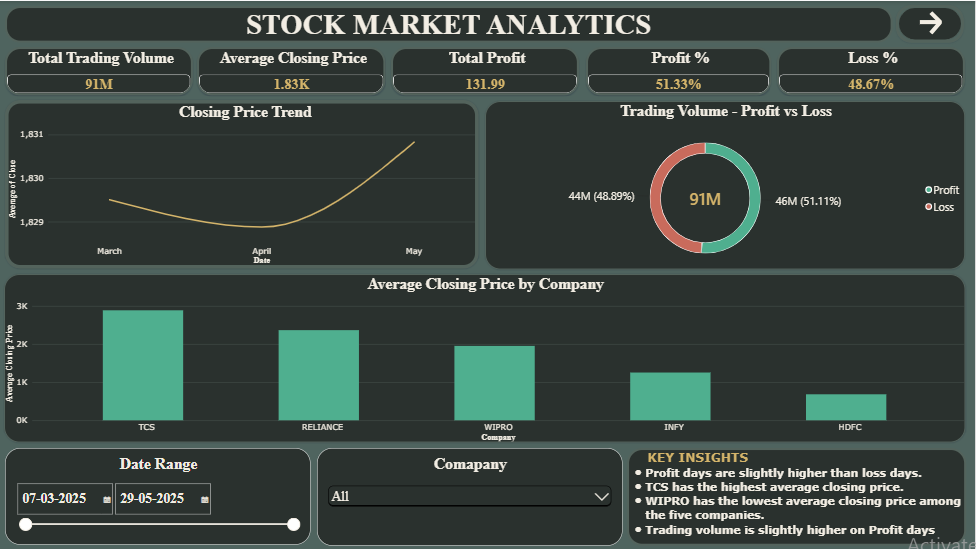

This screenshot's page, from the dashboard's own definition file:
{"tool":"powerbi","page":{"name":"Executive Dashboard","canvas":[1920,1080],"ordinal":0},"visuals":[{"type":"textbox","box":[15.6,9,1742.9,72.2],"z":0},{"type":"lineChart","title":"Closing Price Trend","fields":{"Y":["Avg(stock_market_dataset.Close)"],"Category":["Date_table.Month"]},"box":[15.4,195.2,929.8,330.8],"z":1000},{"type":"donutChart","title":"Trading Volume - Profit vs Loss","fields":{"Y":["Company.Total Volume"],"Category":["stock_market_dataset.Profit_Loss"]},"box":[958.2,195.5,942.7,330.9],"z":2000},{"type":"clusteredColumnChart","title":"Average Closing Price by Company","fields":{"Category":["Company.Company"],"Y":["Company.Average Closing Price"]},"box":[14.4,535.6,1887.5,331.2],"z":3000},{"type":"slicer","title":"Date Range","fields":{"Values":["Date_table.Date"]},"box":[15.5,877.3,600,190],"z":4000},{"type":"slicer","title":"Comapany","fields":{"Values":["Company.Company"]},"box":[628.2,877.3,600,191.8],"z":5000},{"type":"cardVisual","title":"Total Trading Volume","fields":{"Data":["Company.Total Volume"]},"box":[15.7,90,368.6,95],"z":6000},{"type":"cardVisual","title":"Average Closing Price","fields":{"Data":["Company.Average Closing Price"]},"box":[392.9,90,370,95],"z":7000},{"type":"cardVisual","title":"Profit %","fields":{"Data":["Company.Profit %"]},"box":[1155.7,90,363.6,95],"z":8000},{"type":"cardVisual","title":"Total Profit","fields":{"Data":["Company.Total Profit"]},"box":[773.6,90,369.3,95],"z":9000},{"type":"cardVisual","title":"Loss %","fields":{"Data":["Company.Loss %"]},"box":[1531.4,90,368.6,95],"z":10000},{"type":"textbox","box":[1236.4,877.3,666.4,191.8],"z":11000},{"type":"actionButton","box":[1764.8,8.2,133.4,73.5],"z":12000}]}

Visuals, with their boxes in screenshot pixels (x1, y1, x2, y2), scaled from the page's 1920x1080 canvas onto the 976x549 screenshot:
textbox: [left=8, top=5, right=894, bottom=41]
"Closing Price Trend" lineChart: [left=8, top=99, right=480, bottom=267]
"Trading Volume - Profit vs Loss" donutChart: [left=487, top=99, right=966, bottom=268]
"Average Closing Price by Company" clusteredColumnChart: [left=7, top=272, right=967, bottom=441]
"Date Range" slicer: [left=8, top=446, right=313, bottom=543]
"Comapany" slicer: [left=319, top=446, right=624, bottom=543]
"Total Trading Volume" cardVisual: [left=8, top=46, right=195, bottom=94]
"Average Closing Price" cardVisual: [left=200, top=46, right=388, bottom=94]
"Profit %" cardVisual: [left=587, top=46, right=772, bottom=94]
"Total Profit" cardVisual: [left=393, top=46, right=581, bottom=94]
"Loss %" cardVisual: [left=778, top=46, right=966, bottom=94]
textbox: [left=629, top=446, right=967, bottom=543]
actionButton: [left=897, top=4, right=965, bottom=42]
